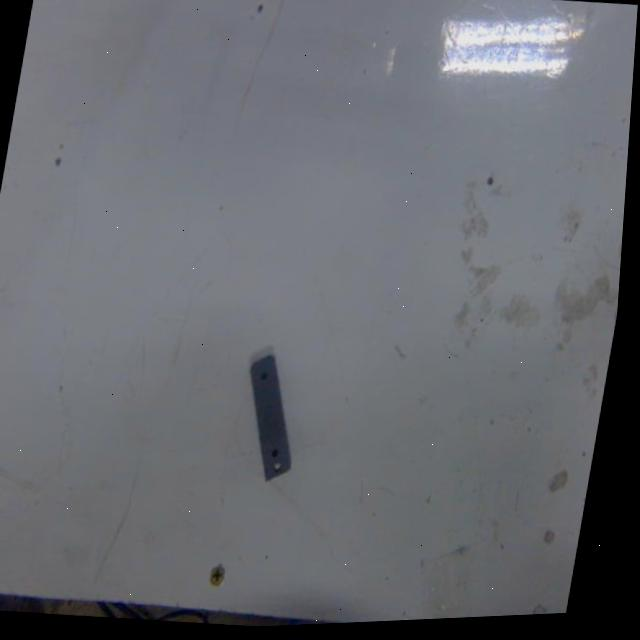grey: (228, 345, 312, 486)
head: (256, 366, 269, 383)
